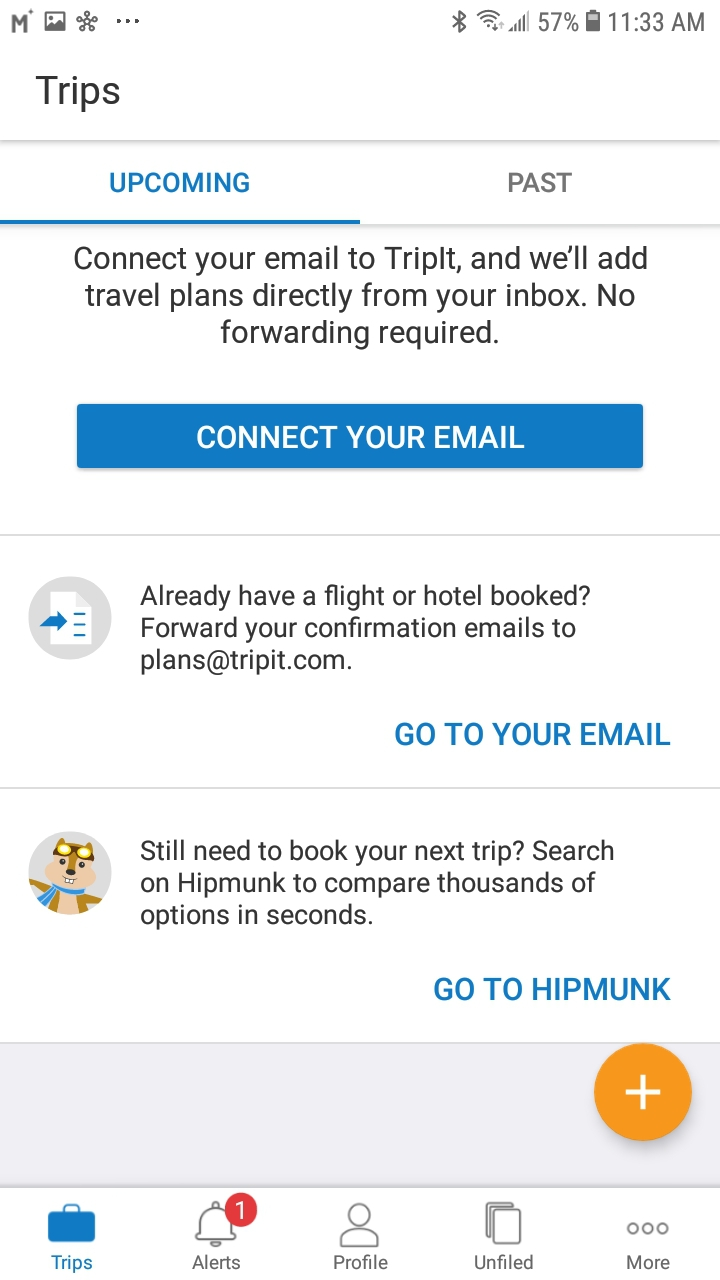Icon: (593, 1043, 692, 1141), (195, 1193, 258, 1247), (48, 1203, 96, 1242), (340, 1202, 380, 1248), (485, 1201, 522, 1245), (627, 1221, 670, 1235)
Image: (30, 832, 114, 916), (29, 577, 113, 660)
Text: (74, 245, 647, 350), (142, 838, 615, 930), (141, 583, 591, 676), (395, 722, 671, 747), (434, 976, 671, 1002), (36, 76, 121, 114), (110, 172, 251, 194), (508, 171, 574, 194), (475, 1253, 534, 1270), (334, 1254, 389, 1270), (192, 1254, 241, 1270), (52, 1255, 93, 1273), (627, 1254, 670, 1270)
TextButton: (78, 404, 644, 469)
UpperTaskBar: (1, 1, 720, 34)
